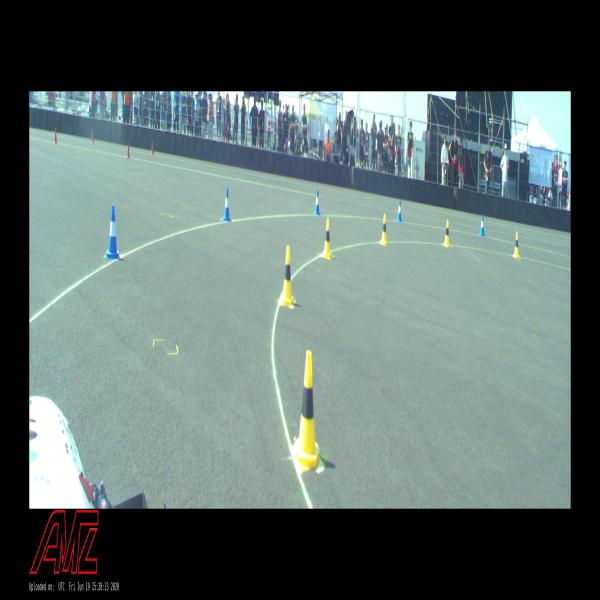blue_cone: (106, 204, 120, 260), (222, 188, 232, 222), (314, 190, 320, 215), (397, 200, 402, 222), (480, 215, 484, 236)
unknown_cone: (127, 142, 130, 159), (54, 128, 57, 143), (151, 141, 154, 154), (91, 130, 94, 143)
yellow_cone: (292, 351, 322, 471), (279, 246, 295, 306), (322, 218, 332, 259), (380, 214, 387, 245), (513, 232, 520, 258), (444, 220, 450, 247)
